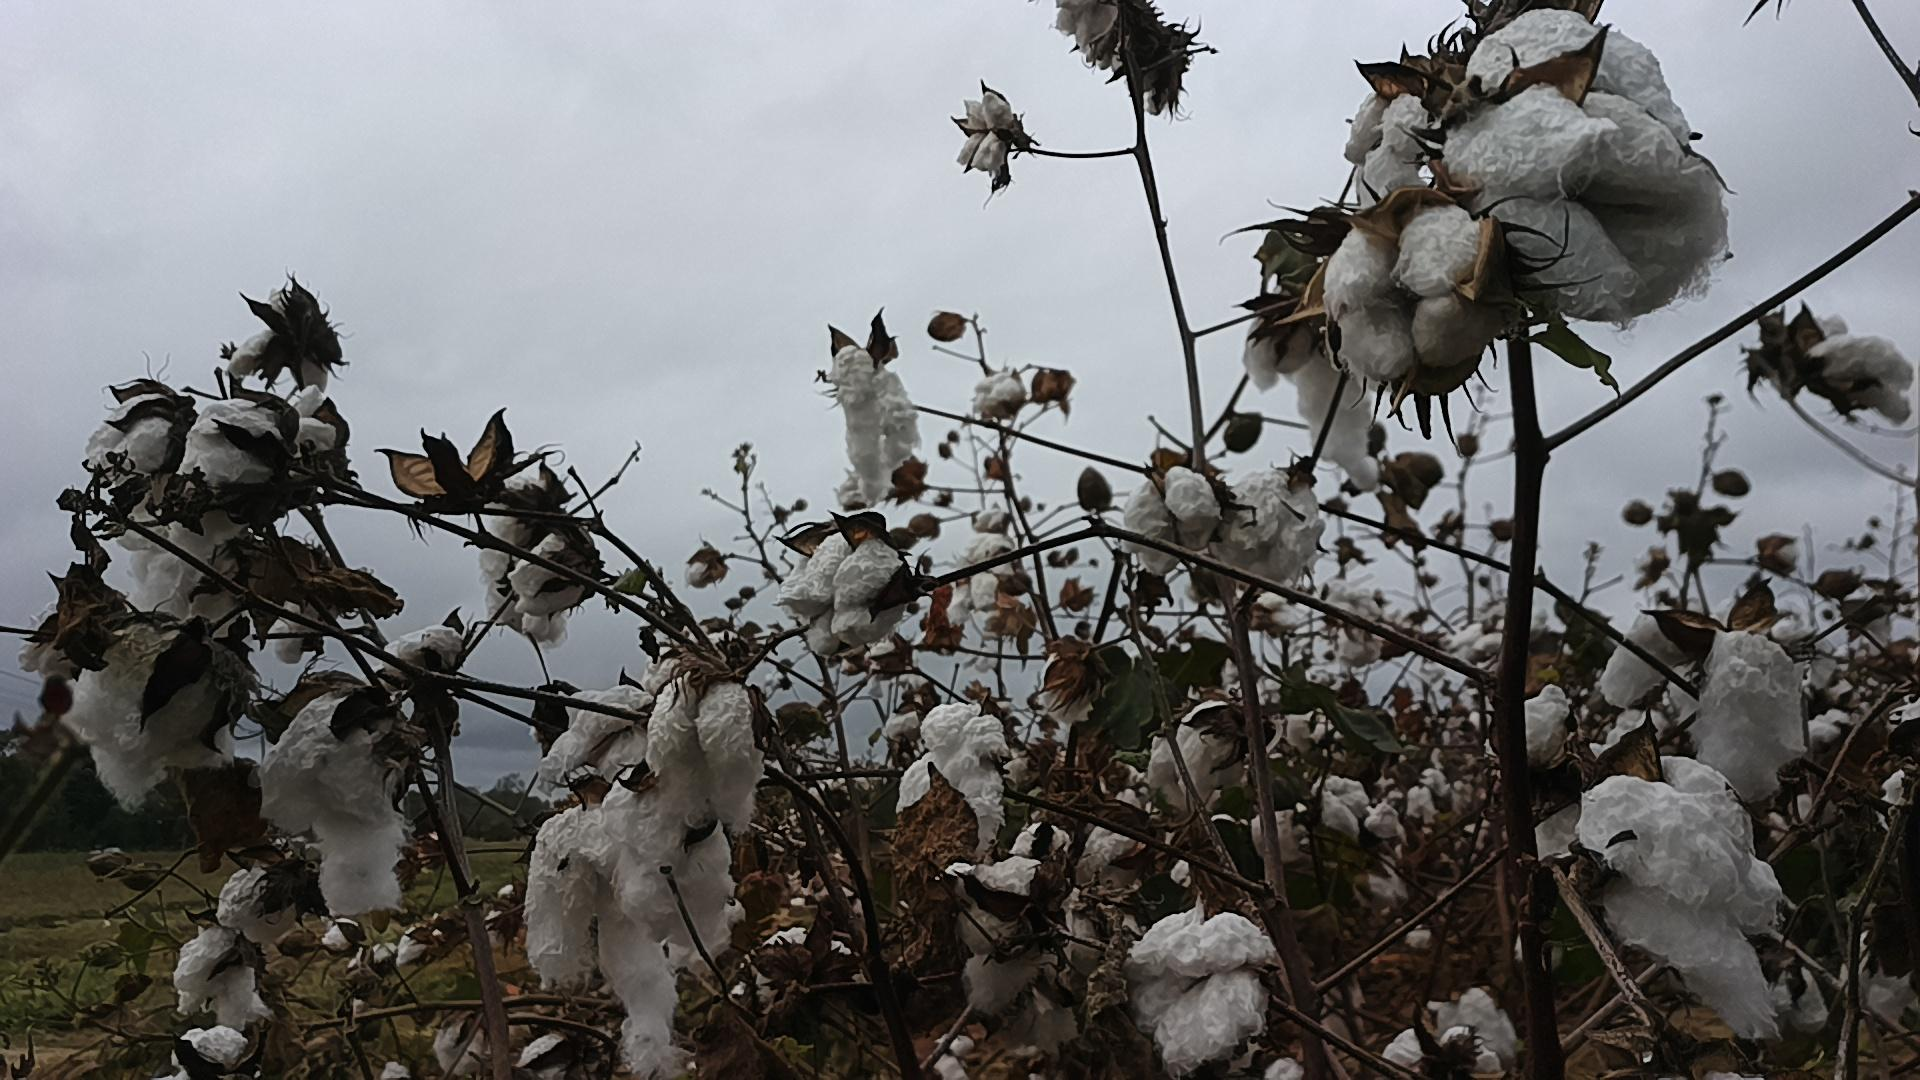cotton_ready: (1448, 7, 1733, 328), (1578, 757, 1767, 1035), (522, 807, 678, 1079), (1598, 618, 1807, 796), (63, 626, 240, 818), (1327, 203, 1495, 382), (1242, 314, 1379, 492), (258, 691, 409, 841), (1133, 914, 1273, 1075), (599, 786, 735, 947), (645, 676, 758, 831), (895, 703, 1010, 855), (117, 505, 243, 640), (779, 537, 905, 659), (831, 344, 918, 508), (224, 289, 332, 414), (481, 464, 558, 633), (534, 683, 651, 793), (179, 401, 293, 512), (1143, 696, 1246, 814), (84, 389, 182, 512), (1812, 313, 1913, 426), (1341, 92, 1435, 210), (1225, 472, 1319, 585), (1121, 467, 1220, 571), (953, 858, 1051, 960), (320, 816, 407, 922), (178, 927, 256, 1030), (1842, 928, 1920, 1030), (756, 931, 852, 1013), (1076, 790, 1149, 894), (1424, 986, 1522, 1060), (512, 525, 587, 620), (1383, 1026, 1502, 1080), (218, 870, 297, 947), (156, 1025, 260, 1080), (943, 533, 1006, 624), (1360, 800, 1408, 911), (1052, 0, 1126, 69), (1763, 963, 1830, 1038), (381, 624, 463, 684), (22, 603, 88, 678), (964, 952, 1040, 1017), (285, 385, 347, 464), (1523, 684, 1575, 773), (1532, 793, 1589, 870), (953, 95, 1009, 171), (1040, 649, 1095, 725), (1062, 906, 1121, 975), (434, 1018, 495, 1080), (1251, 804, 1308, 864), (269, 600, 322, 663), (1319, 774, 1365, 843)
